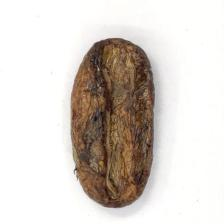NG: (71, 37, 154, 207)
